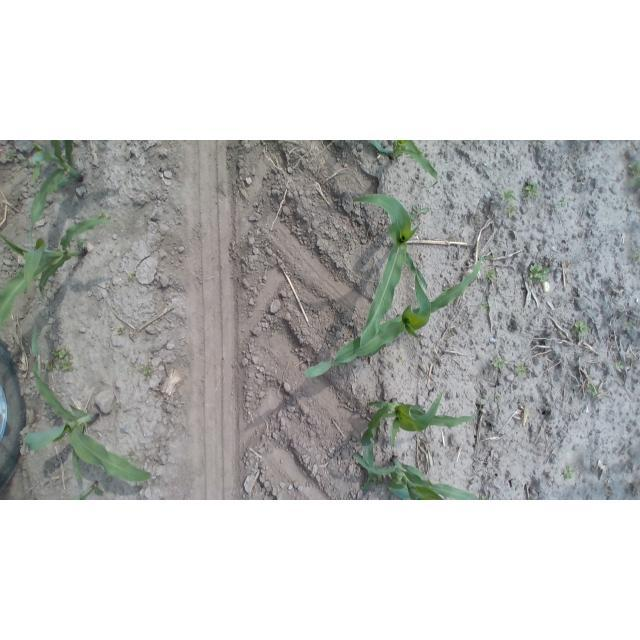Maize: (304, 254, 485, 380), (20, 320, 152, 487), (336, 194, 434, 365), (0, 214, 112, 333), (361, 395, 487, 476), (25, 141, 87, 252), (350, 454, 491, 500), (363, 140, 441, 181), (67, 482, 105, 500)
Weeds: (44, 347, 76, 374), (499, 187, 518, 220), (528, 263, 553, 282), (571, 320, 590, 339), (410, 205, 431, 222), (628, 162, 640, 191), (523, 183, 540, 202), (490, 355, 508, 371), (138, 363, 154, 379), (585, 382, 599, 397), (562, 463, 575, 479), (515, 364, 530, 377), (554, 194, 567, 208), (480, 301, 493, 314), (485, 269, 497, 283), (5, 148, 17, 161), (369, 475, 386, 484), (96, 211, 111, 221), (614, 359, 626, 371), (477, 494, 500, 500), (117, 327, 128, 338), (633, 247, 640, 264), (22, 162, 34, 171), (128, 272, 138, 281), (493, 394, 502, 403)
